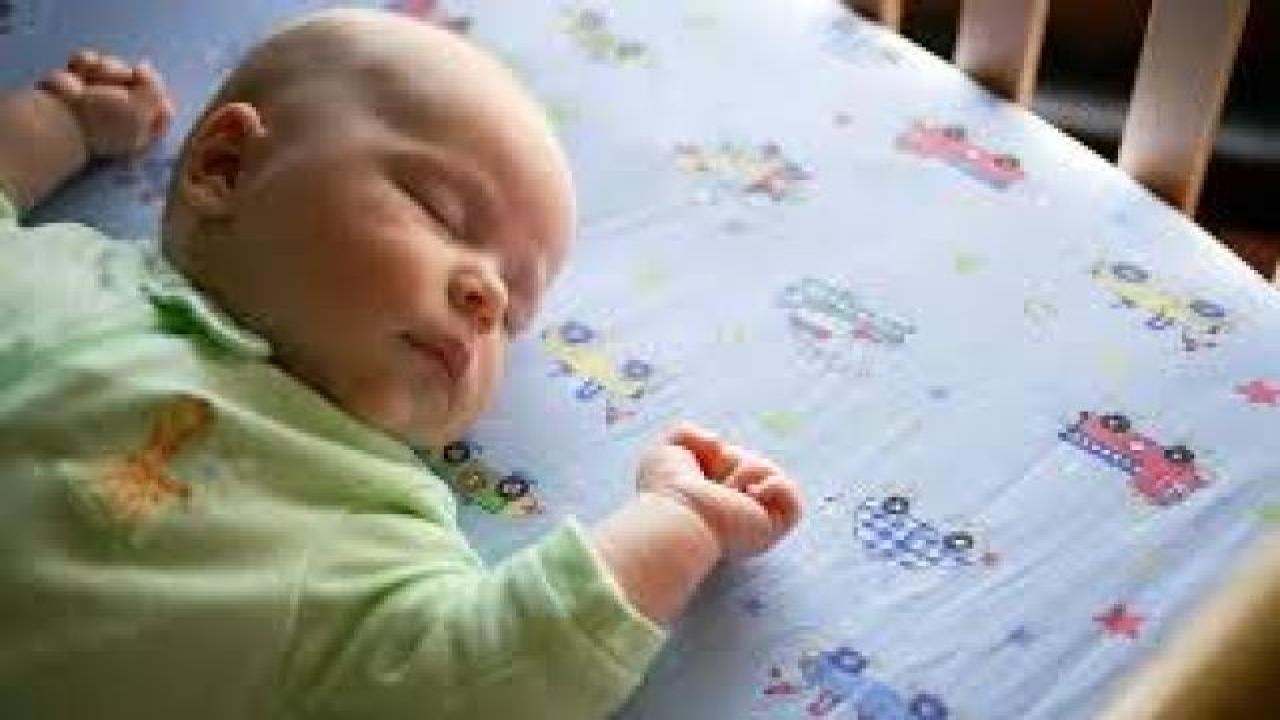hand: (637, 426, 803, 560), (31, 46, 178, 160)
